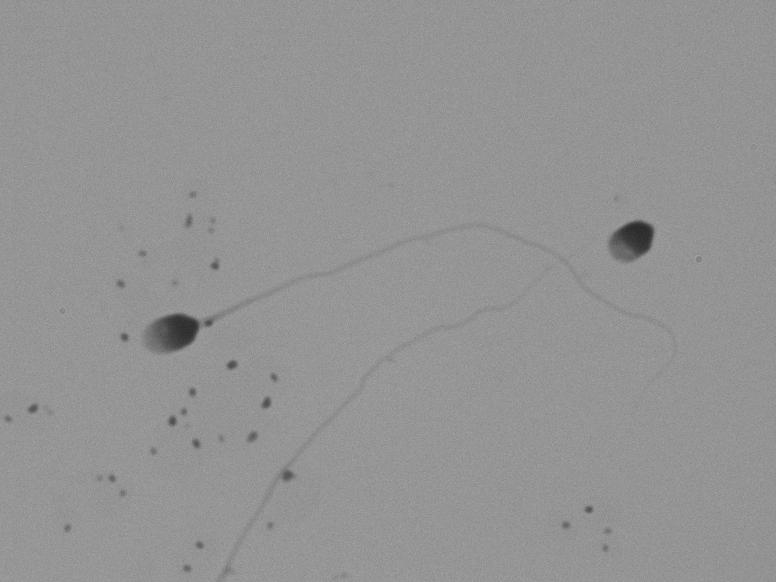Abnormal: (590, 162, 665, 314)
Normal: (109, 161, 600, 405)
